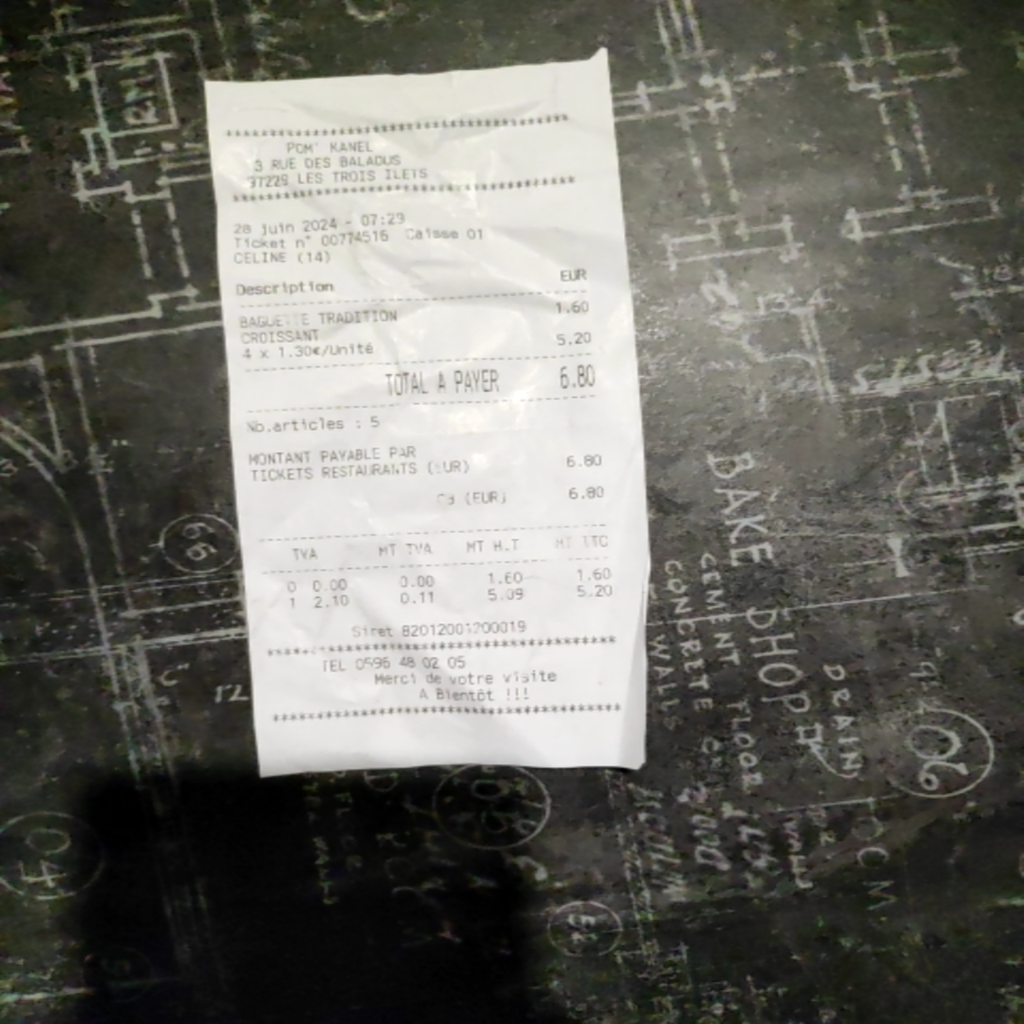recipt: (203, 36, 648, 776)
